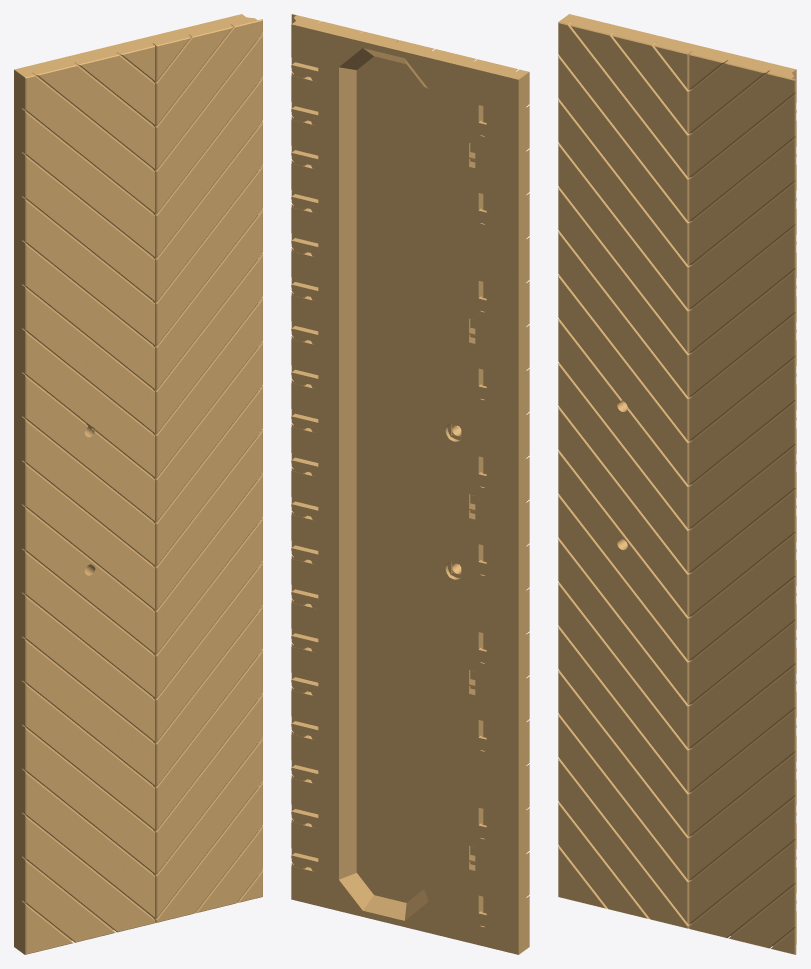
Rendered from Door_Chevron_1W-5H_RH.lib.glb.
3 views of the same model, side by side, from view 1: azimuth 30°, elevation 25°; view 2: azimuth 150°, elevation 25°; view 3: azimuth 330°, elevation 25° (orthographic).
Parts seen in each view (by area): view 1: Door_Chevron_1W-5H_RH; view 2: Door_Chevron_1W-5H_RH; view 3: Door_Chevron_1W-5H_RH.
Part boxes in pixels (x1=…): Door_Chevron_1W-5H_RH: x1=14, y1=14, x2=262, y2=954; Door_Chevron_1W-5H_RH: x1=291, y1=14, x2=529, y2=954; Door_Chevron_1W-5H_RH: x1=558, y1=14, x2=796, y2=954.
Size of the model in its own units: 79.16 by 279 by 6.51.
